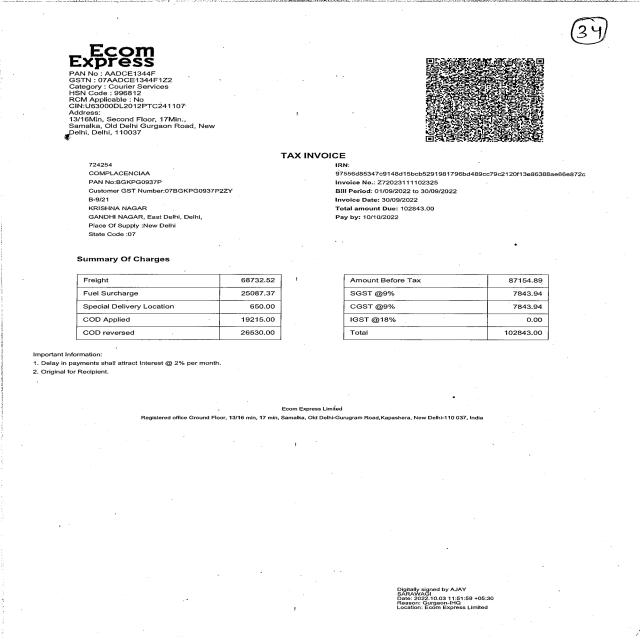page-number: (474, 4, 637, 54)
